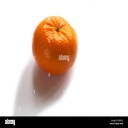orange: (28, 14, 79, 78)
